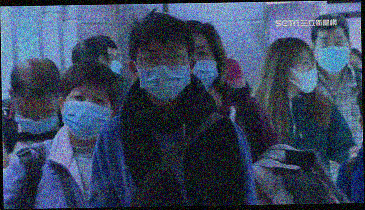with_mask: (134, 45, 190, 102), (61, 87, 114, 139), (313, 32, 351, 72), (13, 104, 60, 136), (191, 40, 219, 92), (289, 55, 319, 96)
